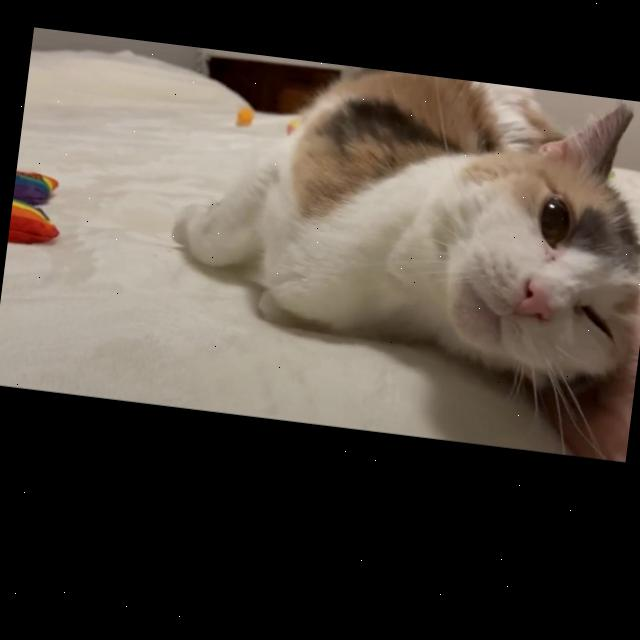manx_cat: (386, 77, 640, 403)
